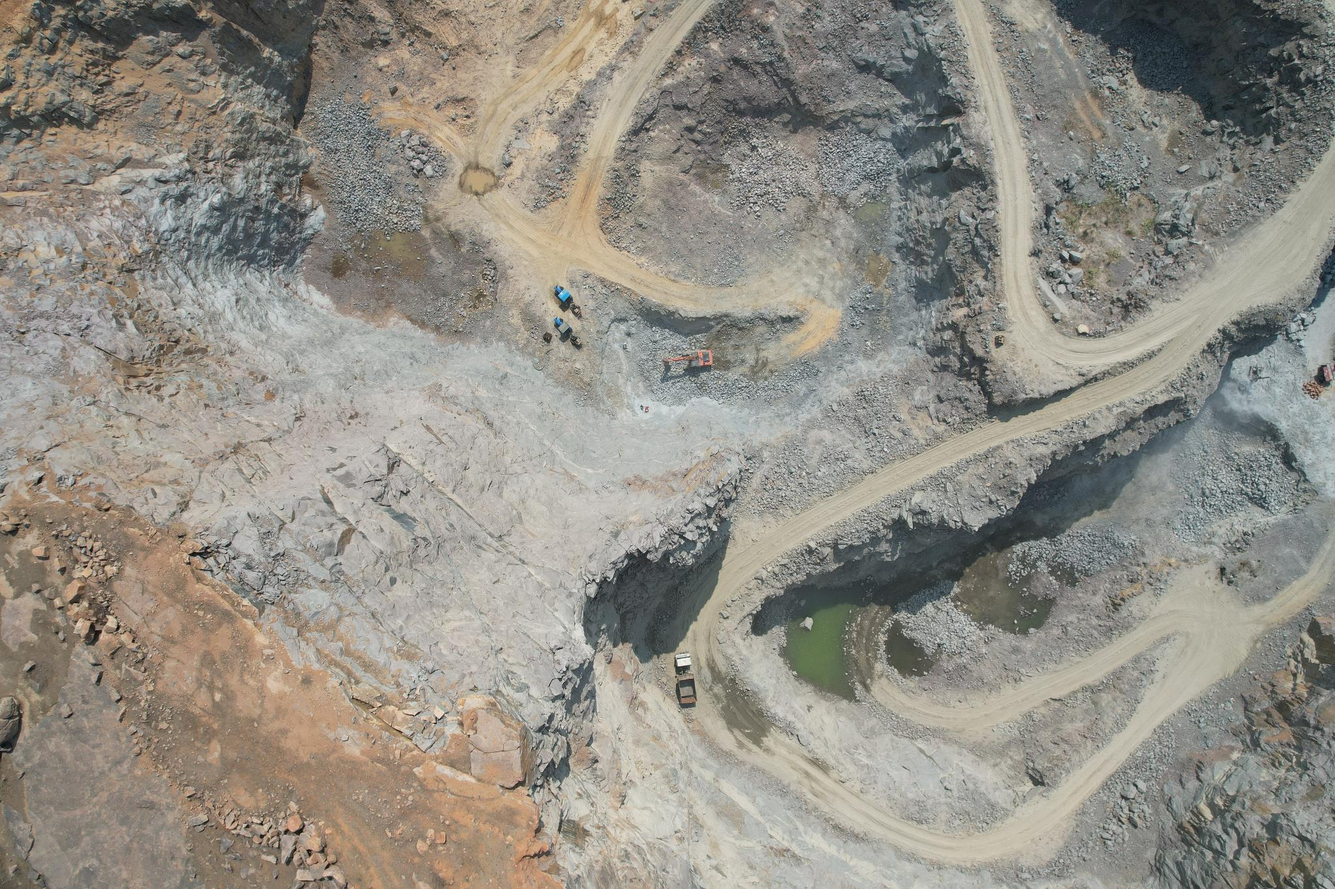benches: (689, 0, 1335, 667), (756, 528, 1335, 863), (473, 0, 839, 356), (395, 0, 617, 191)
excavator: (657, 349, 723, 378)
truck: (661, 641, 710, 722)
